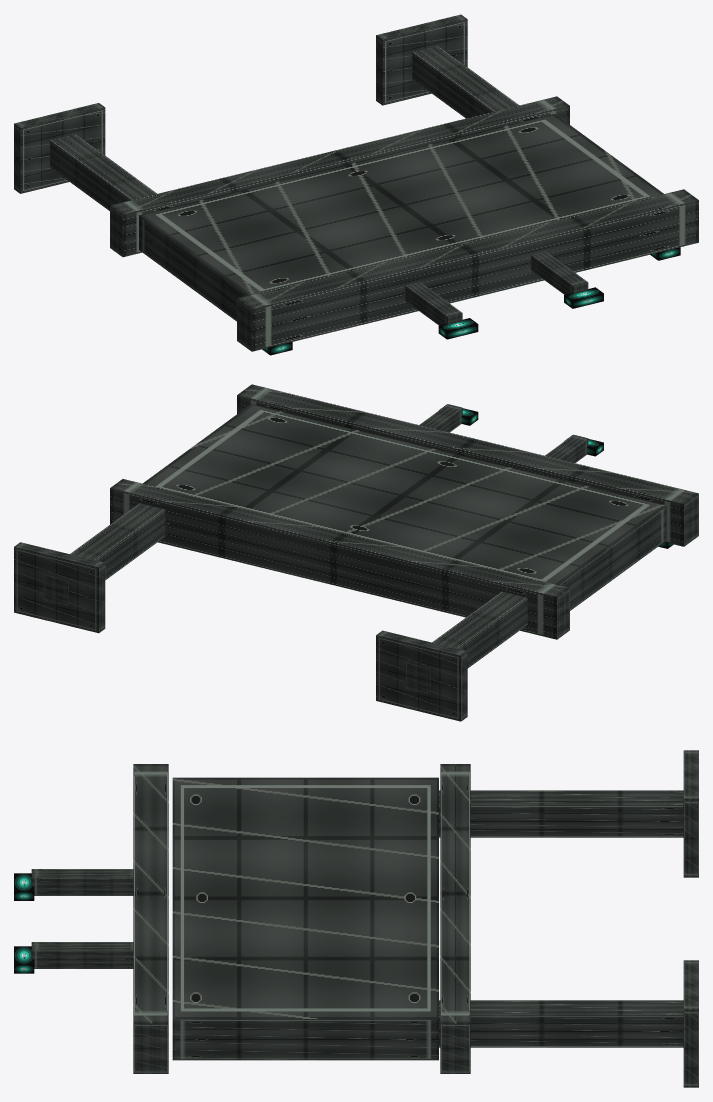
Rendered from rustchain_ledger_billboard.obj.
3 views of the same model, one above another, from view 1: azimuth 30°, elevation 25°; view 2: azimuth 150°, elevation 25°; view 3: azimuth 270°, elevation 25° (orthographic). The views are drawn at different scales.
Visible parts, largest first — view 1: rustchain_ledger_billboard; view 2: rustchain_ledger_billboard; view 3: rustchain_ledger_billboard.
Boxes of the visible parts, left/top/right/bottom form: rustchain_ledger_billboard: left=14, top=14, right=698, bottom=355; rustchain_ledger_billboard: left=14, top=384, right=698, bottom=721; rustchain_ledger_billboard: left=14, top=750, right=698, bottom=1087.
Bounding box in the file's own units: 2.42 × 0.34 × 2.7.
3 materials, 3 textured.
